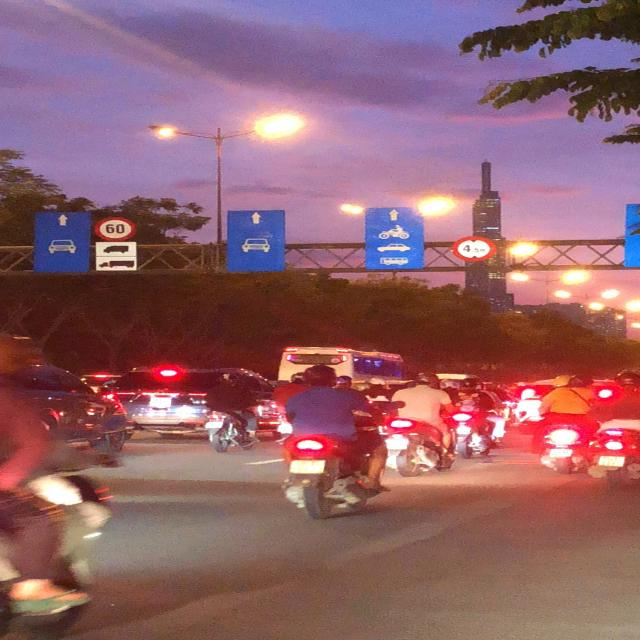Bien bao han che chieu cao: (449, 235, 497, 262)
Bien bao toc do toi da cho phep: (92, 213, 137, 240)
